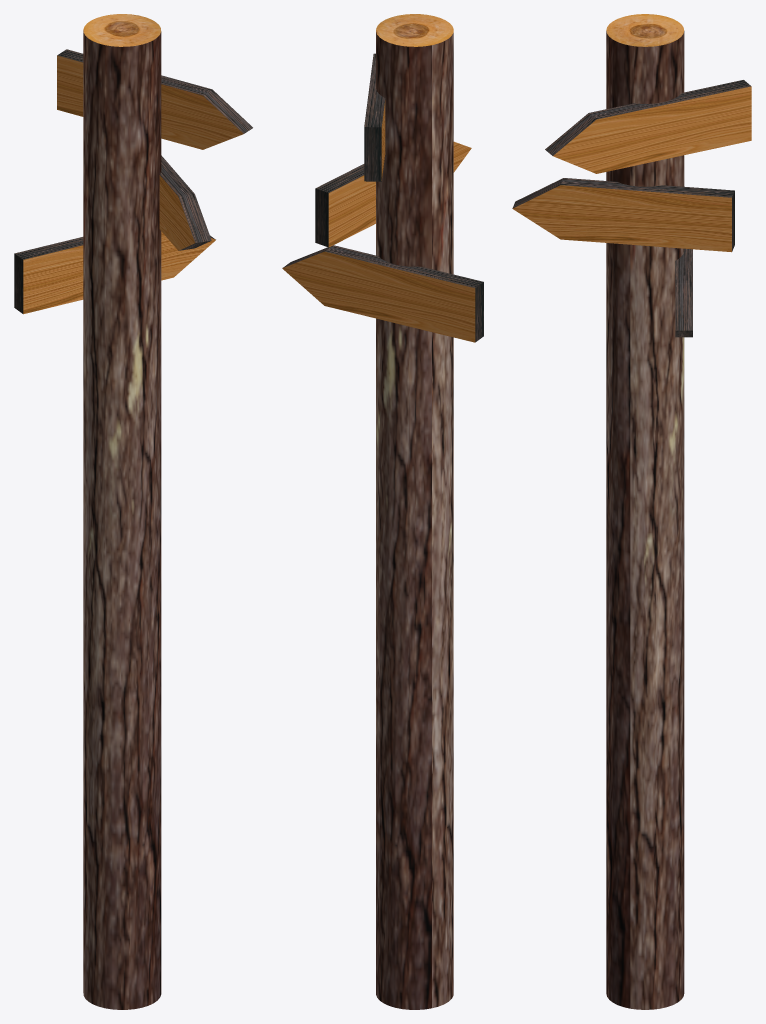
File: Cartel.fbx
3 renders of one model, left to right at view 1: azimuth 30°, elevation 25°; view 2: azimuth 150°, elevation 25°; view 3: azimuth 270°, elevation 25°, orthographic.
Visible parts, largest first — view 1: Cartel.002; view 2: Cartel.002; view 3: Cartel.002.
Boxes of the visible parts, left/top/right/bottom form: Cartel.002: left=14, top=14, right=252, bottom=1009; Cartel.002: left=282, top=14, right=483, bottom=1009; Cartel.002: left=512, top=14, right=751, bottom=1009.
Bounding box in the file's own units: 910 × 4338 × 977.
